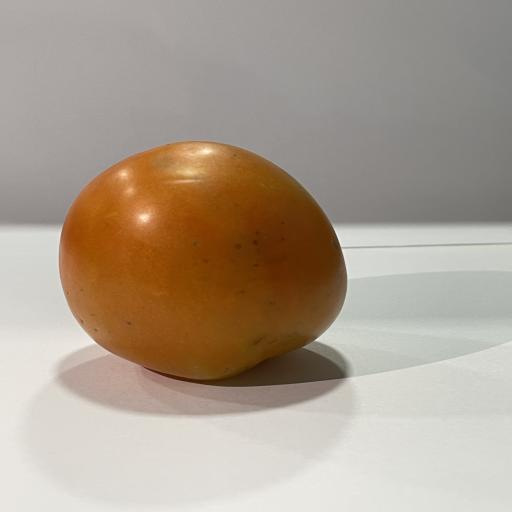unripe: (59, 142, 347, 380)
